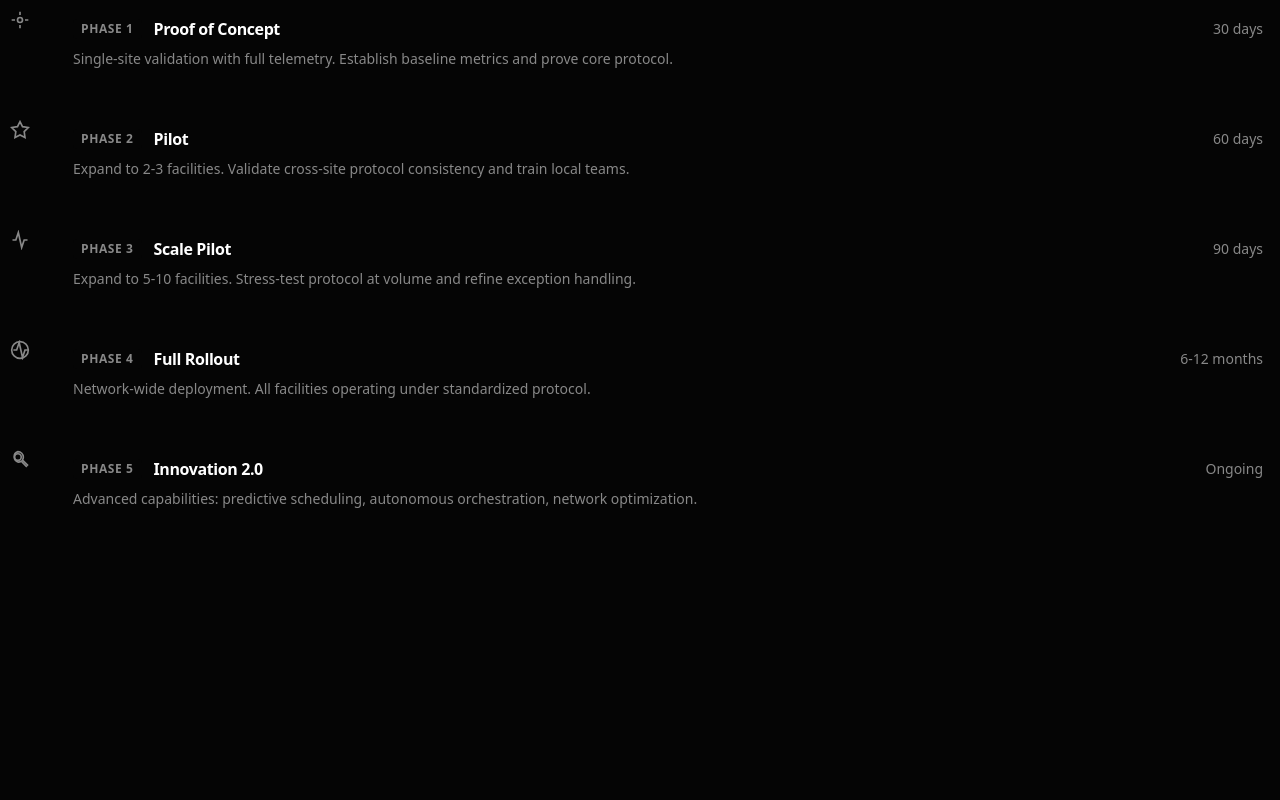
Scenario: PhasedTimelineV2 Component › Phase Expansion › should expand phase on click
Click the button with test id "phase-1" at [107, 29], box [73, 18, 1263, 68]
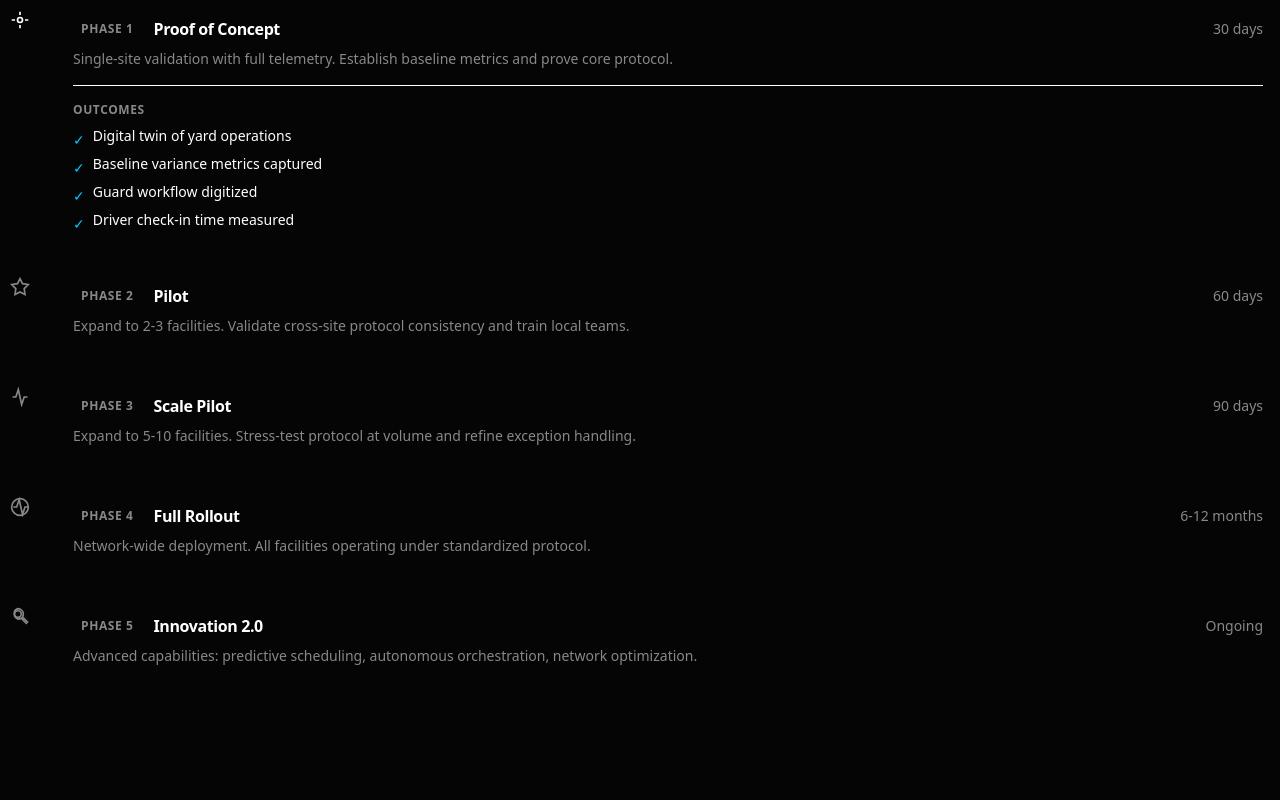
expect the button with test id "phase-1" is expanded: met, box [56, 0, 1279, 251]
